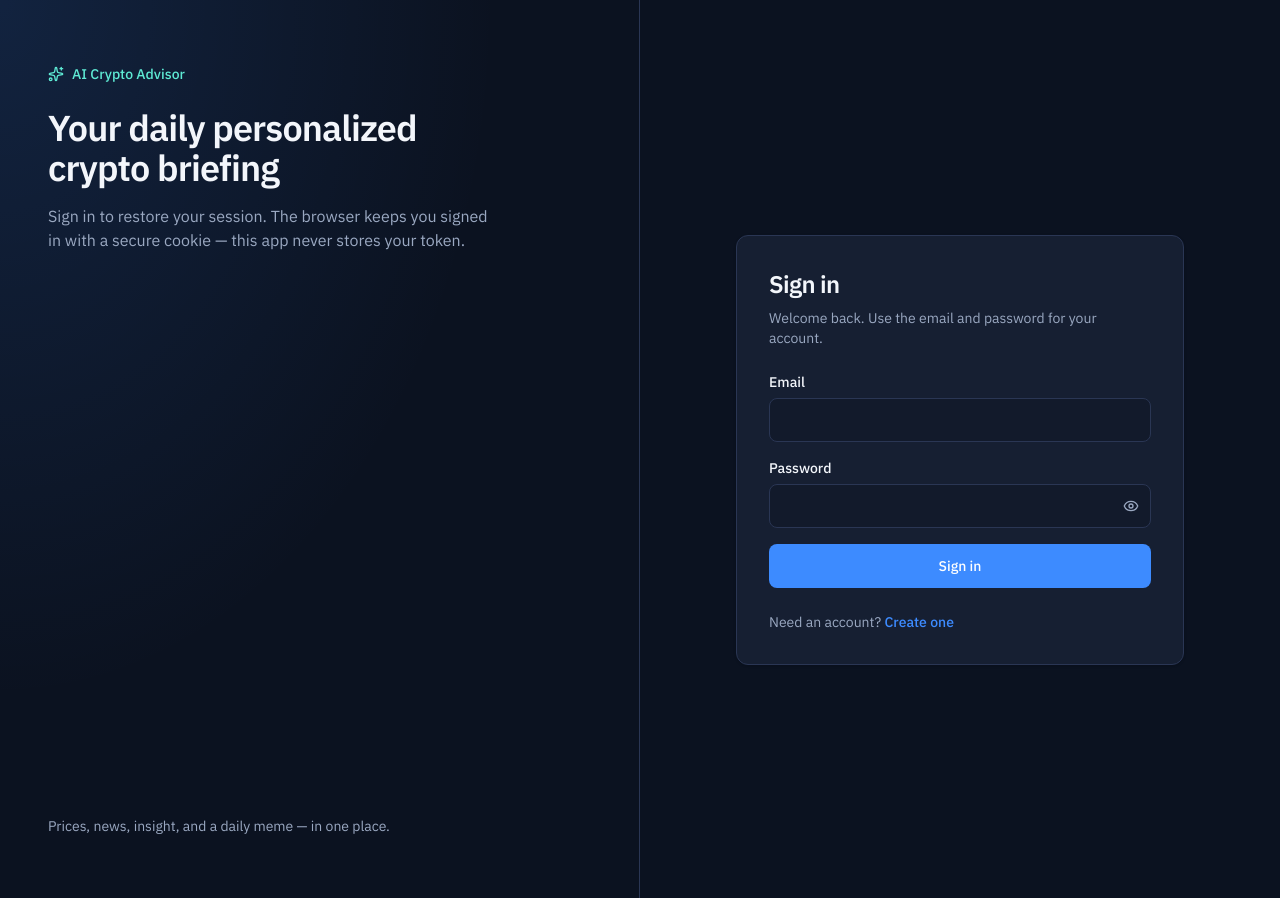
Test: login › updates the session and navigates after a successful login
Expected: the heading "Sign in" is shown, x1=769 y1=268 x2=840 y2=300
Type "ada@example.com" into the field labelled "Email" at (960, 420), box x1=769 y1=398 x2=1151 y2=442
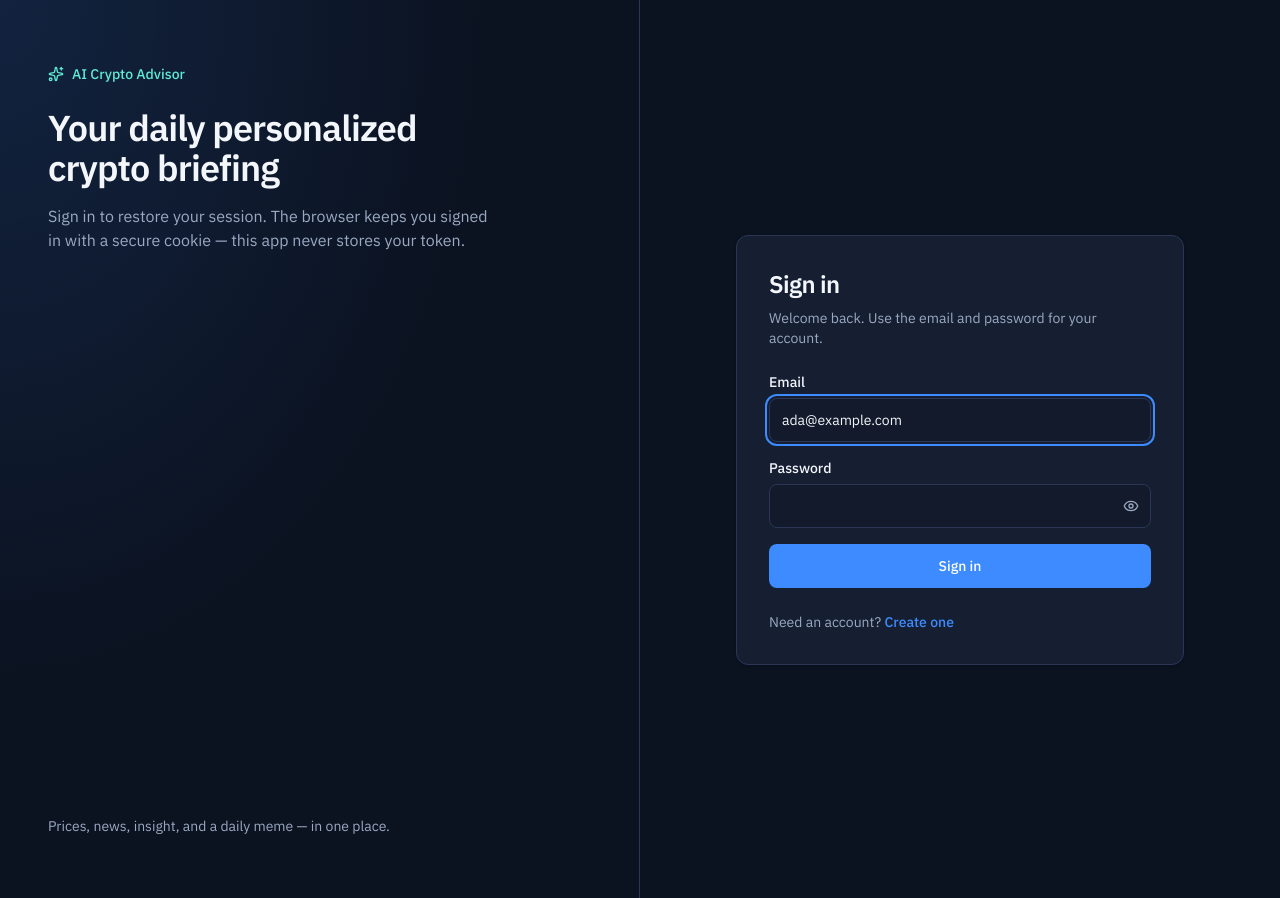
Type "Password1" into the password field labelled "Password" at (960, 506), box x1=769 y1=484 x2=1151 y2=528
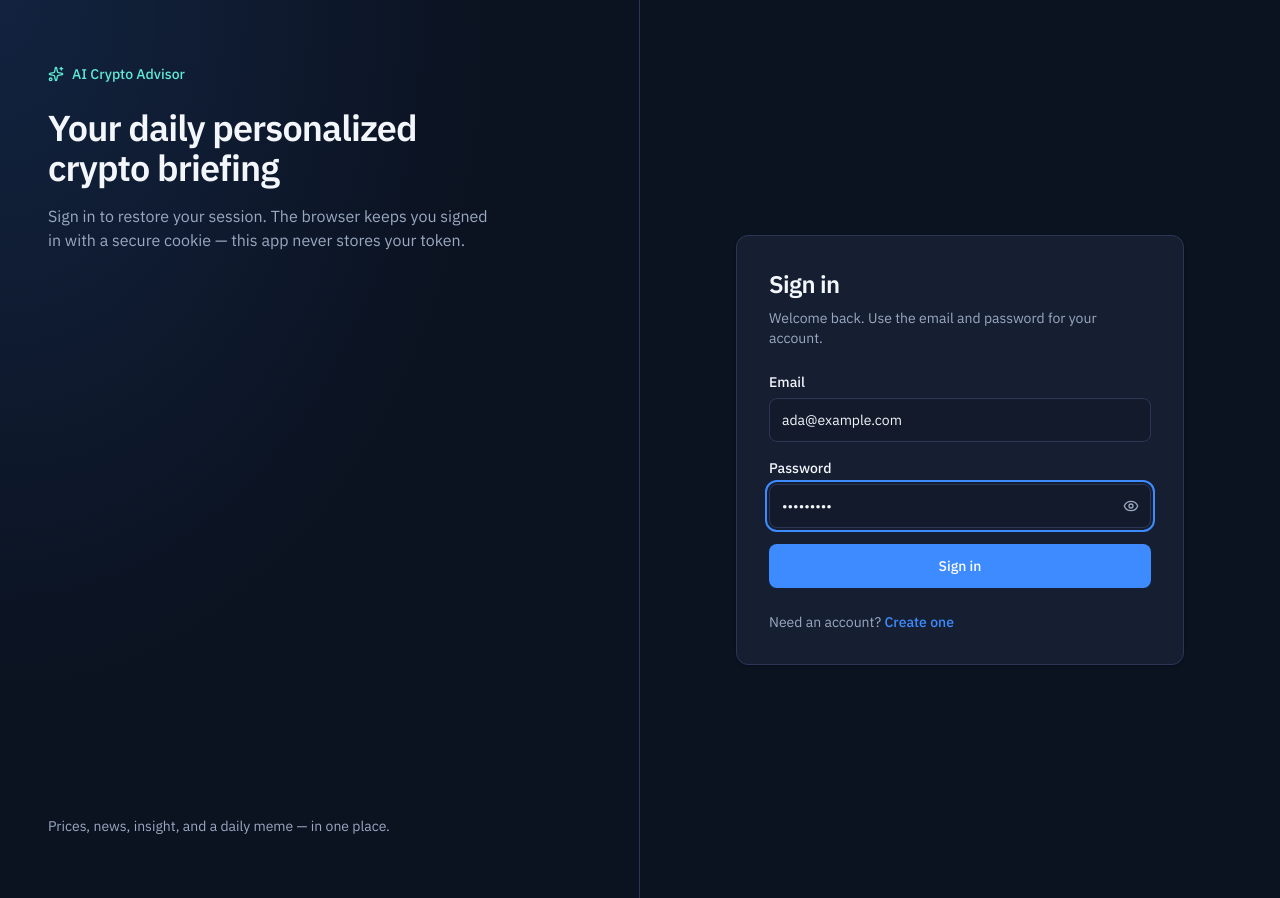
Click the button "Sign in" at (960, 566), box x1=769 y1=544 x2=1151 y2=588
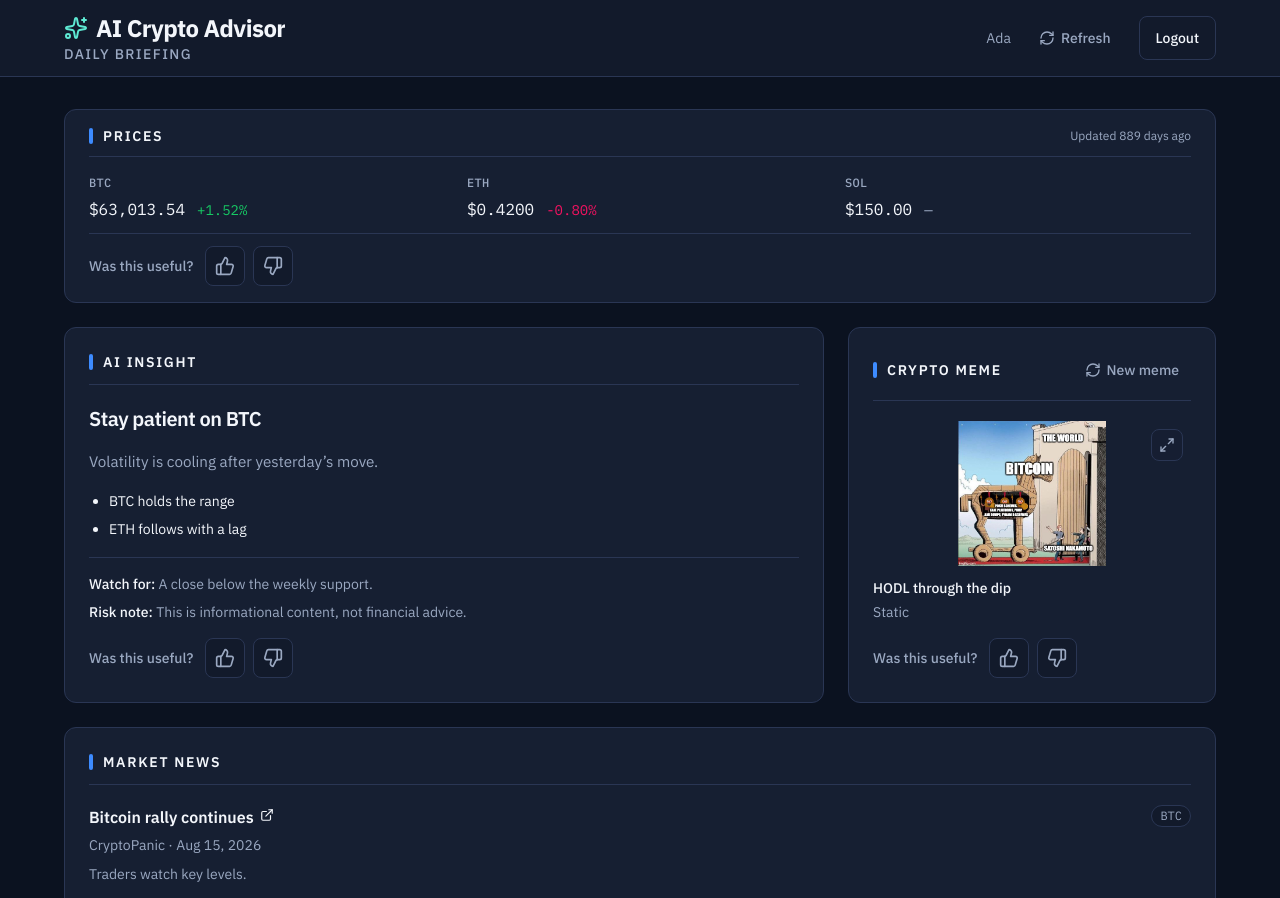
Expected: the heading "Daily briefing" is shown, x1=64 y1=45 x2=192 y2=63
